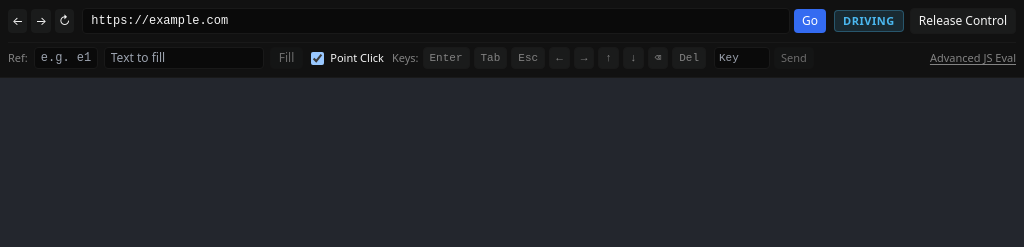
Scenario: RemoteBrowserControls eval refusal › does not refuse on message text alone
Step 1. Click the button with test id "remote-browser-eval-toggle" → (973, 58), box [930,50,1016,66]
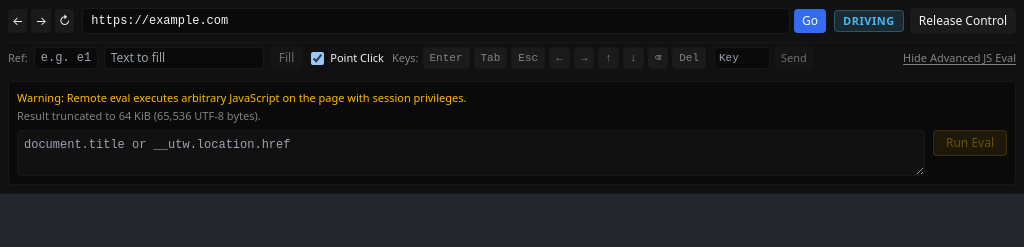
Step 2. Type "document.title" into the text box with test id "remote-browser-eval-input" → (471, 153), box [17,130,925,176]
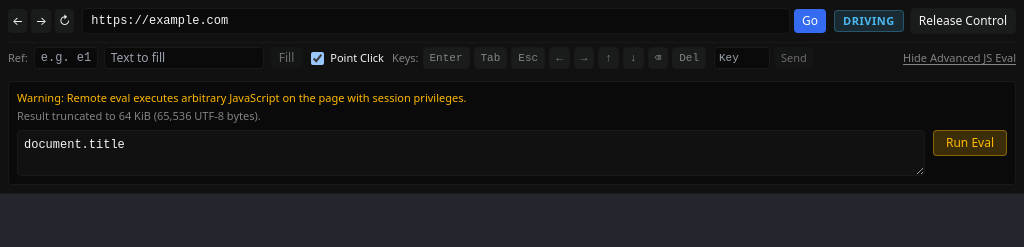
Step 3. Click the button with test id "remote-browser-eval-run-btn" → (970, 143), box [933,130,1007,156]
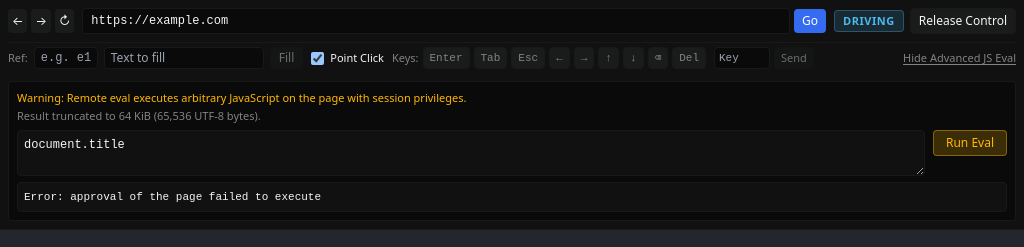
Now the text with test id "remote-browser-eval-result" shows "approval of the page failed to execute", box [24,191,321,203]
